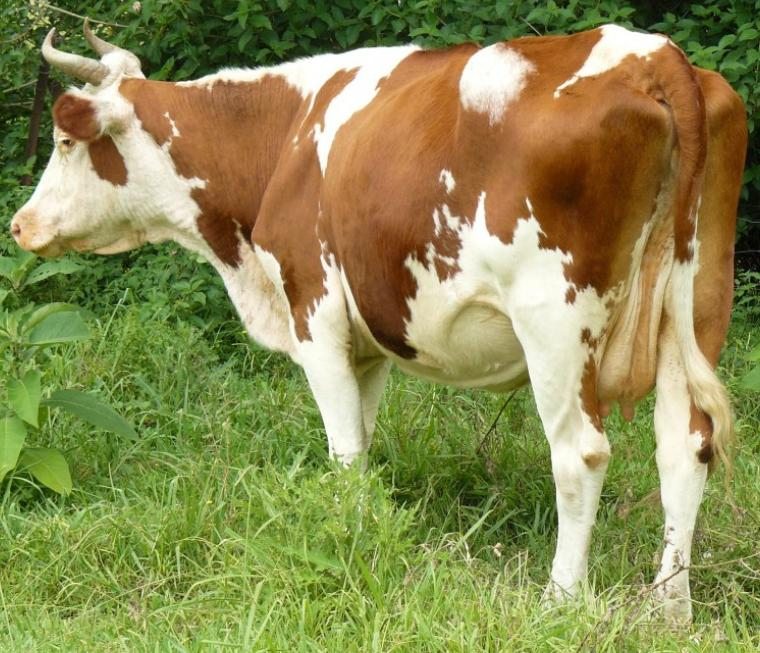cow: (13, 33, 746, 620)
